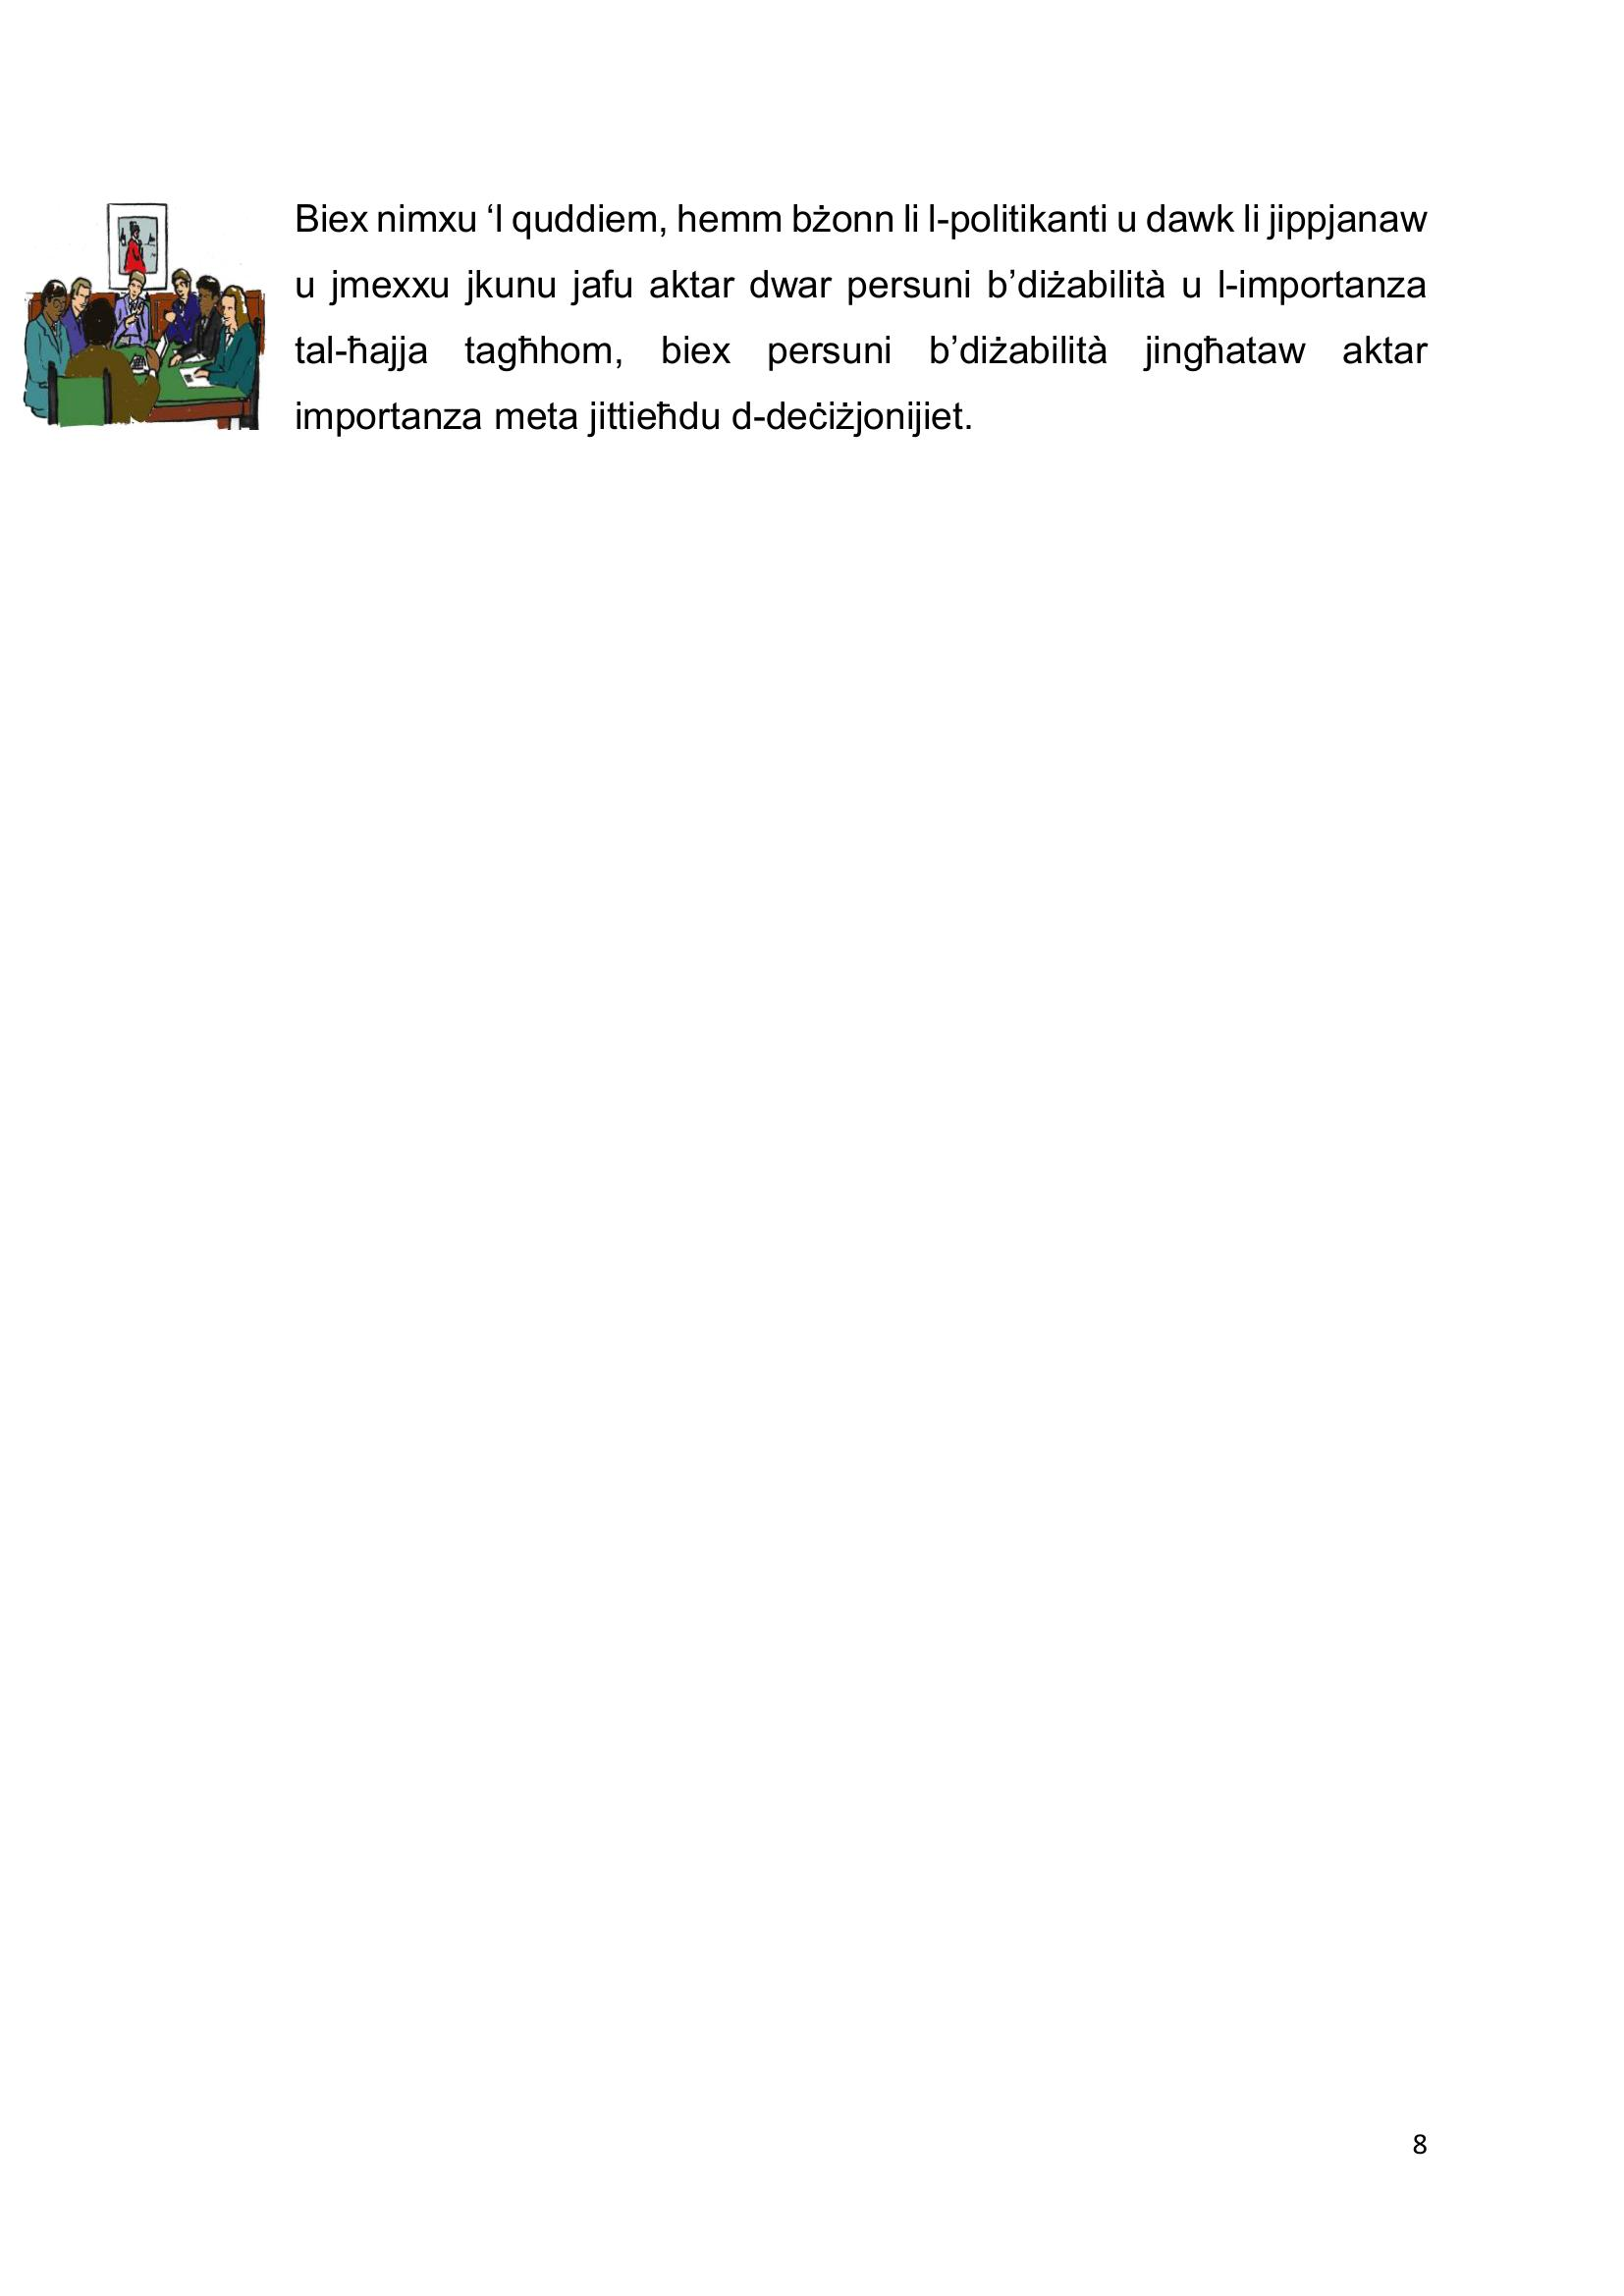text: (281, 188, 1464, 464)
